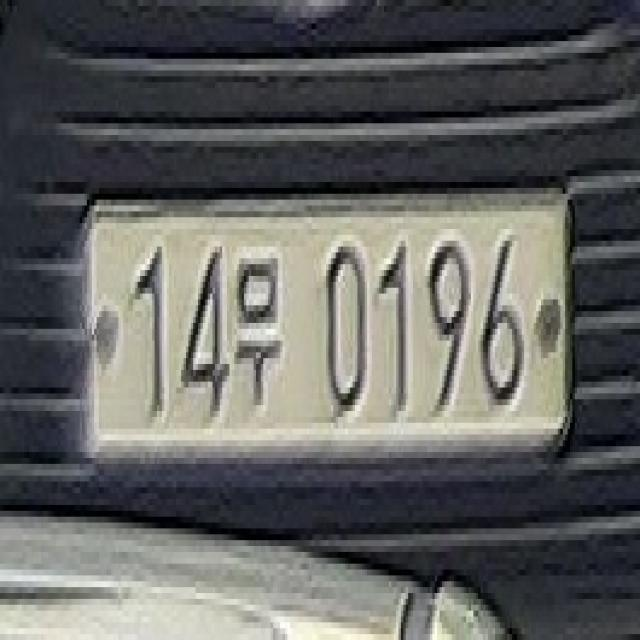0: (321, 229, 372, 423)
1: (133, 223, 176, 429), (372, 235, 418, 423)
4: (179, 234, 229, 428)
6: (478, 217, 536, 423)
9: (423, 229, 478, 417)
license_plate: (72, 176, 582, 487)
mu: (232, 241, 287, 428)
